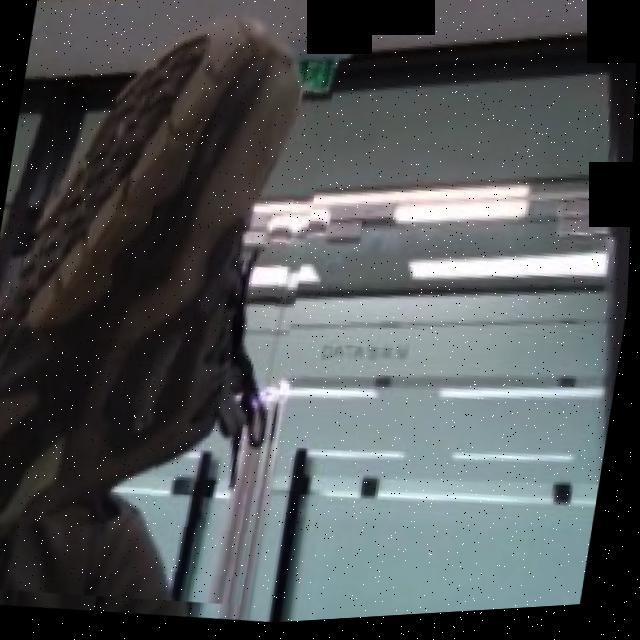shoe: (0, 0, 348, 622)
